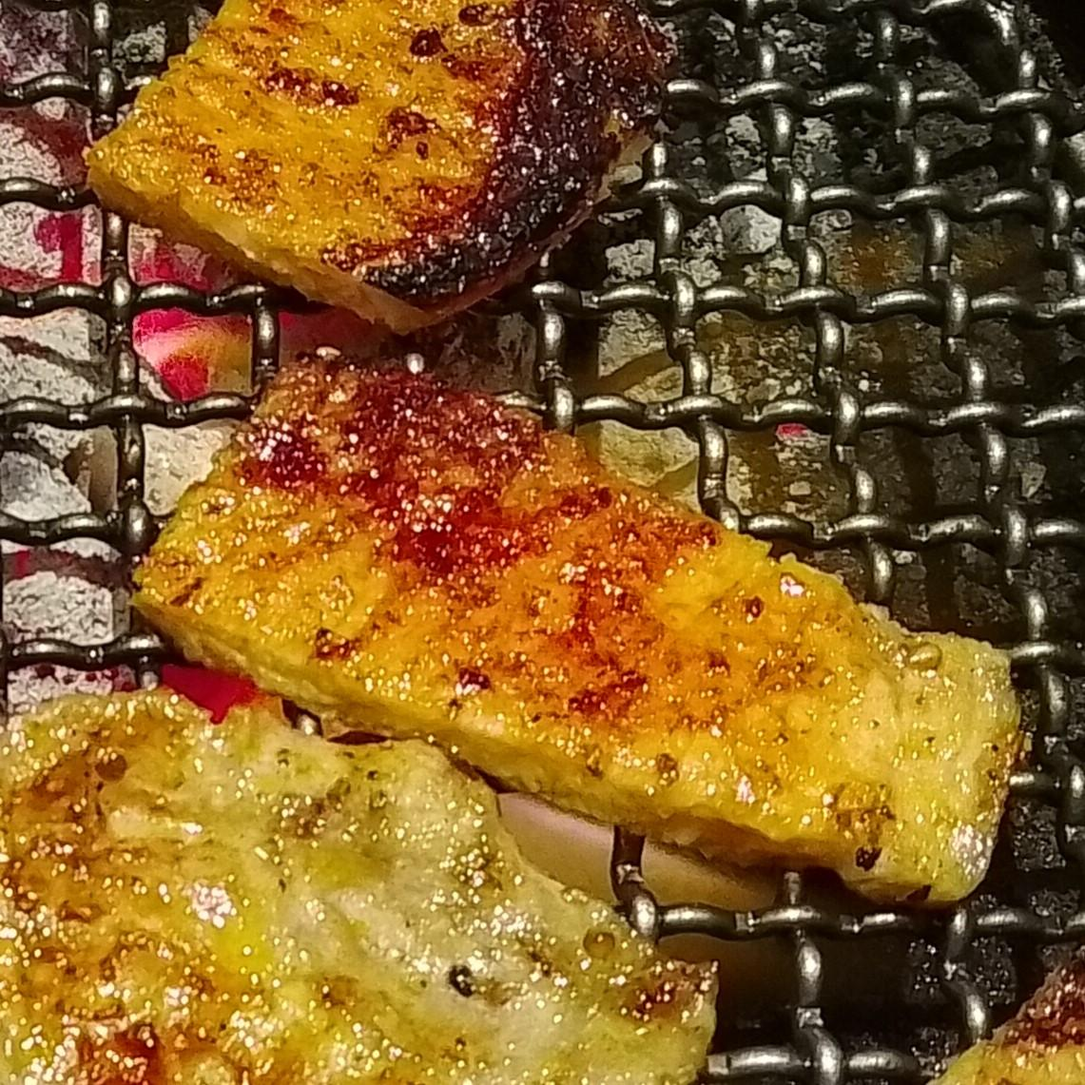Overcooked: (134, 360, 1020, 905), (87, 0, 675, 333)
